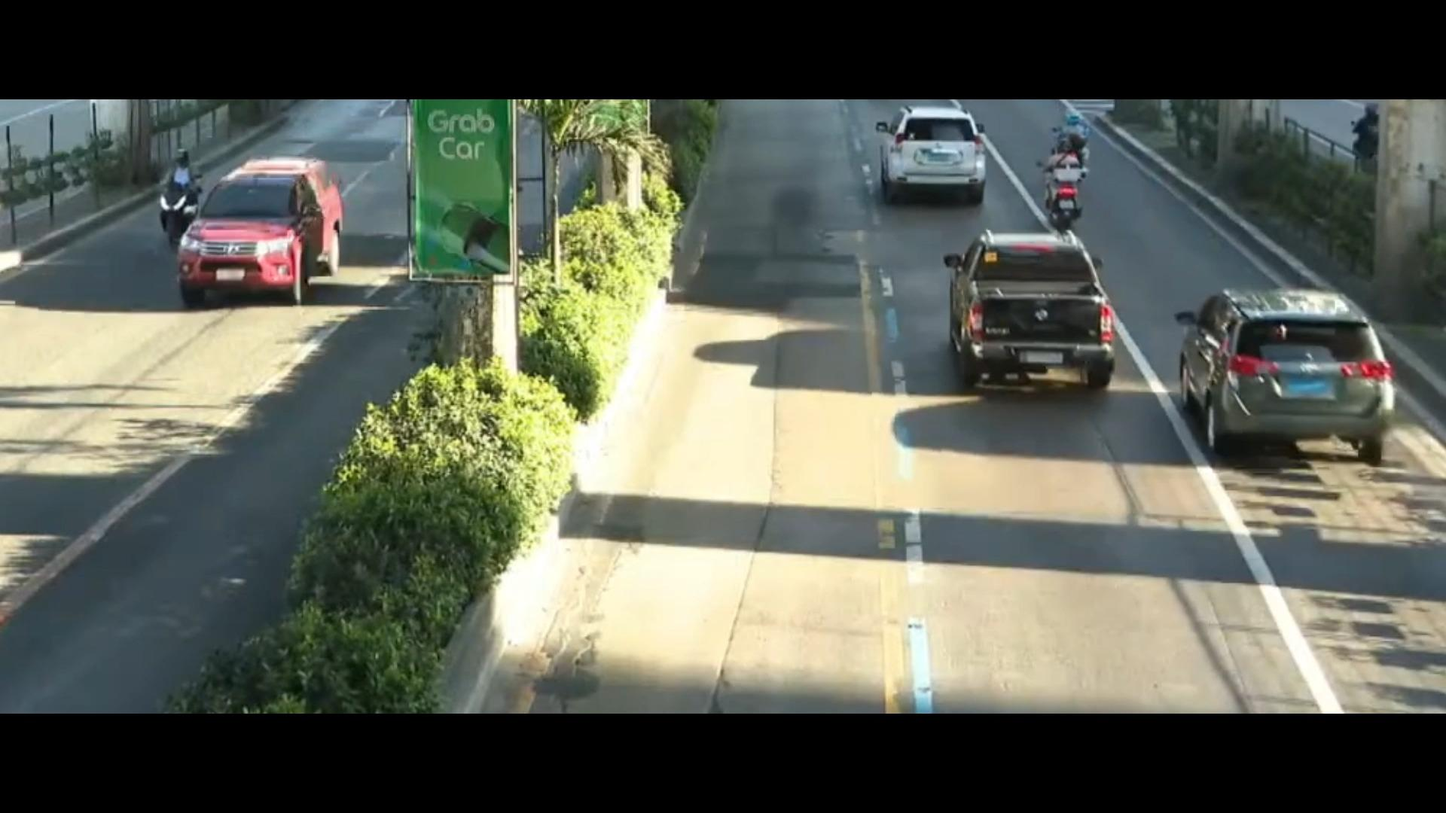Motorcycle: (1034, 115, 1107, 247), (138, 142, 215, 241), (1054, 102, 1096, 172)
Pickup: (917, 221, 1134, 414)
SUV: (1174, 268, 1439, 474), (176, 155, 360, 322), (862, 81, 1006, 224)
